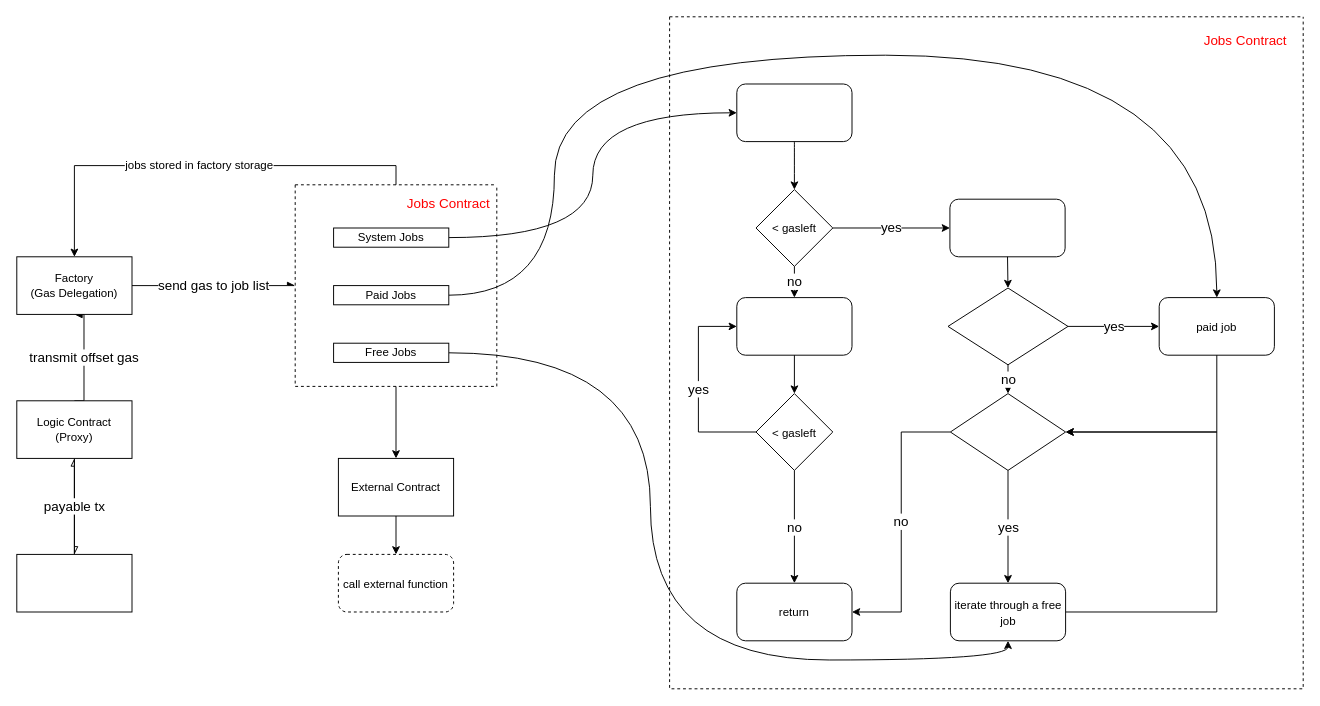
The diagram is 1320 pixels wide and 706 high, and some of its shapes have lost their labels. The centre of each missing label's shape, as x and y in pixels:
gasleft > 20000: [1007,326]
gasleft > 6000: [1007,431]
get gas total to process all due system jobs: [794,112]
run all due system jobs: [1007,227]
run next due system job: [794,326]
State Contract (Delegate): [74,582]
